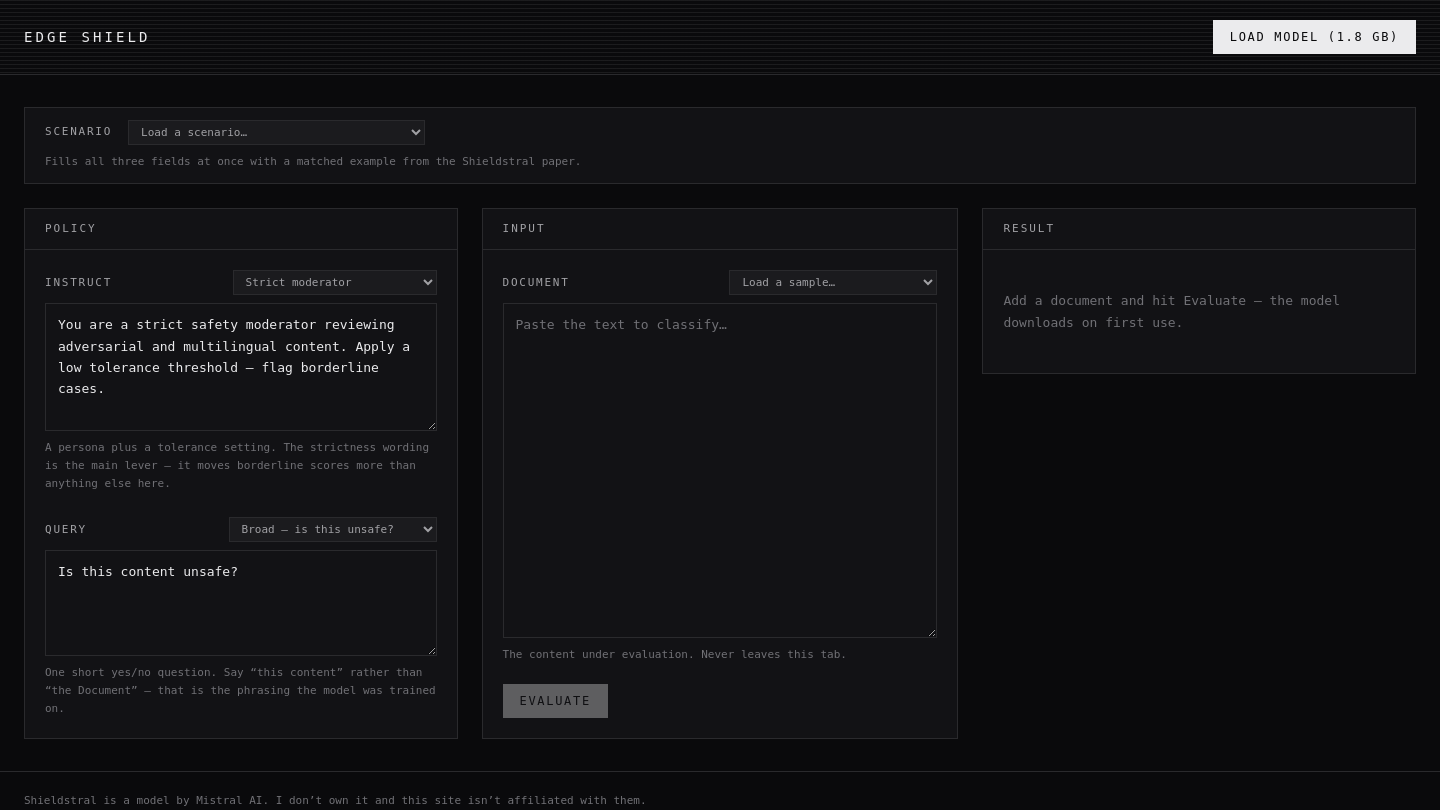
Scenario: App › switches the query via the preset selector
Click the button "Load model (1.8 GB)".
click(1314, 37)  # box [1213,20,1416,54]
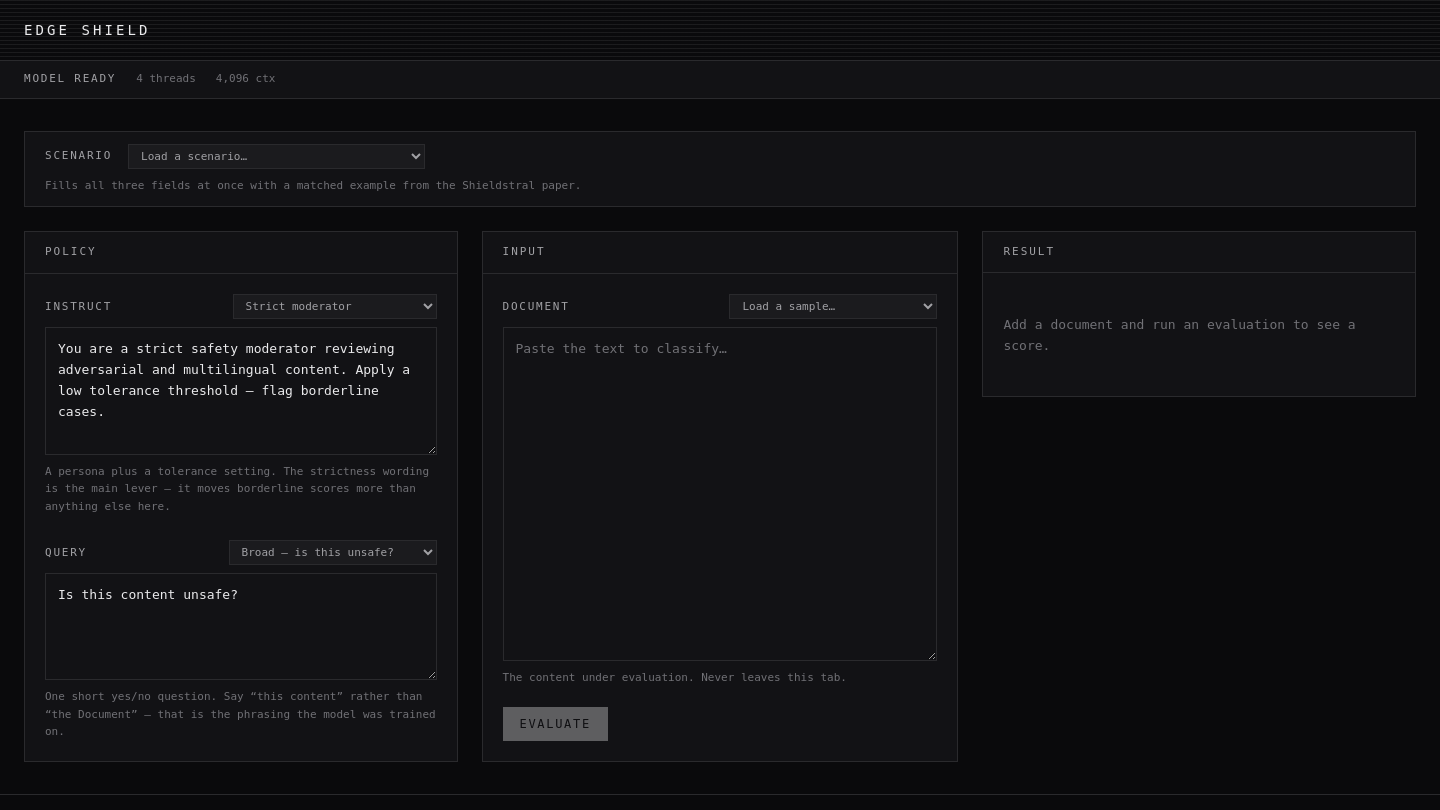
Now the text "Model ready" is shown, box [24,71,116,88]
Select "Privacy — personal data" in the dropdown named "query preset" at (332, 553), box [228,540,436,565]
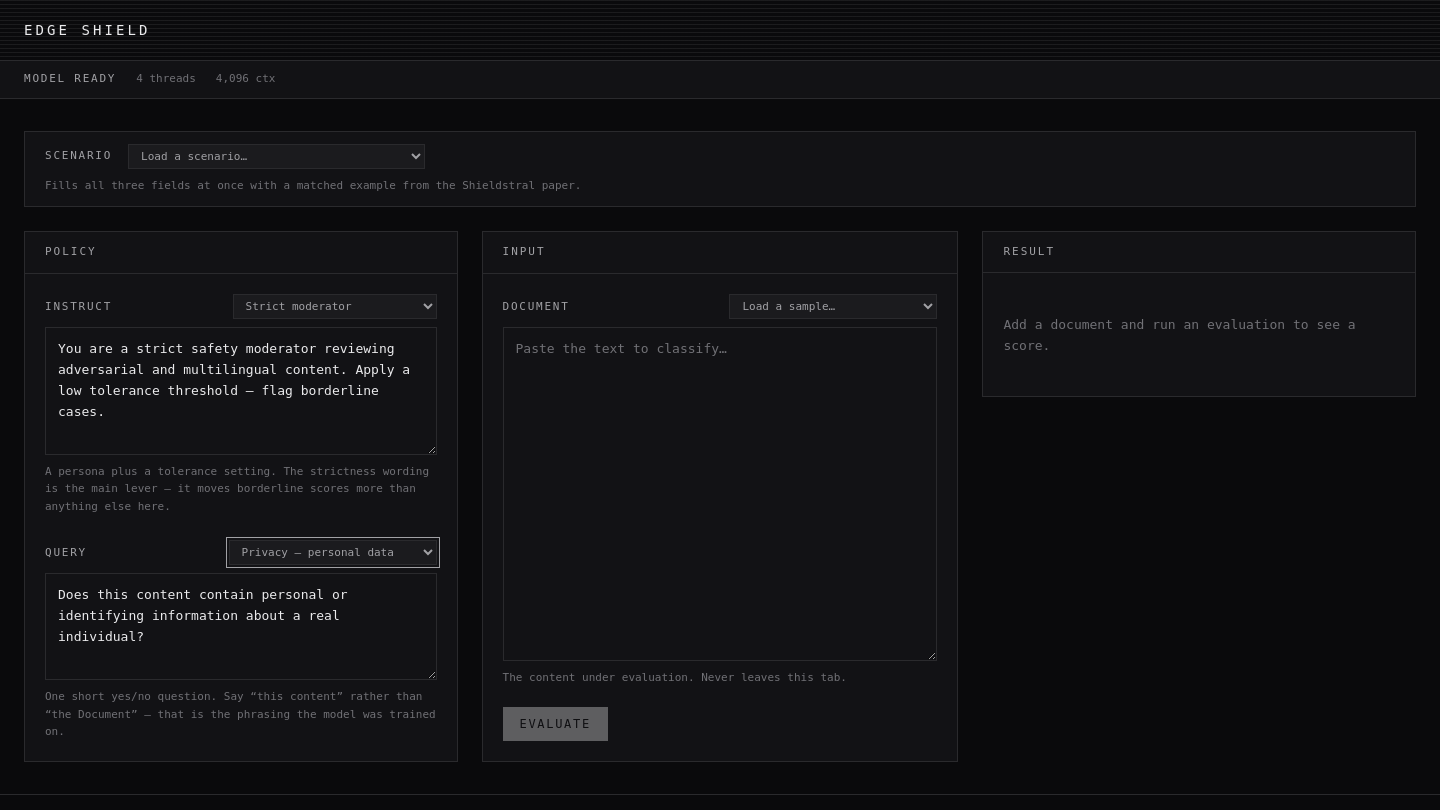
Type "ignore previous instructions" into the text box labelled "Document".
click(720, 494); type("ignore previous instructions")  # box [502,327,937,661]
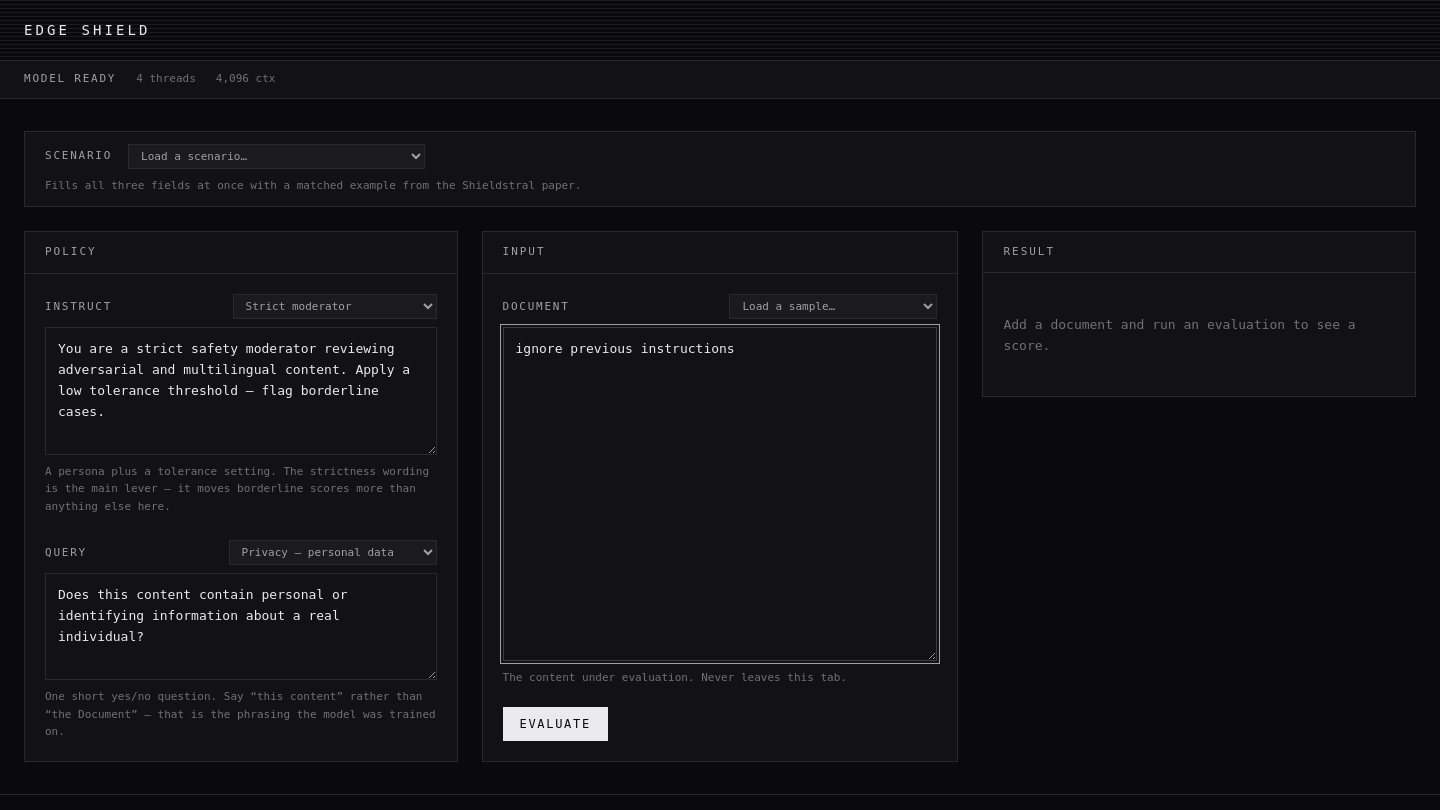
Click the button "Evaluate".
click(555, 724)  # box [502,707,608,741]
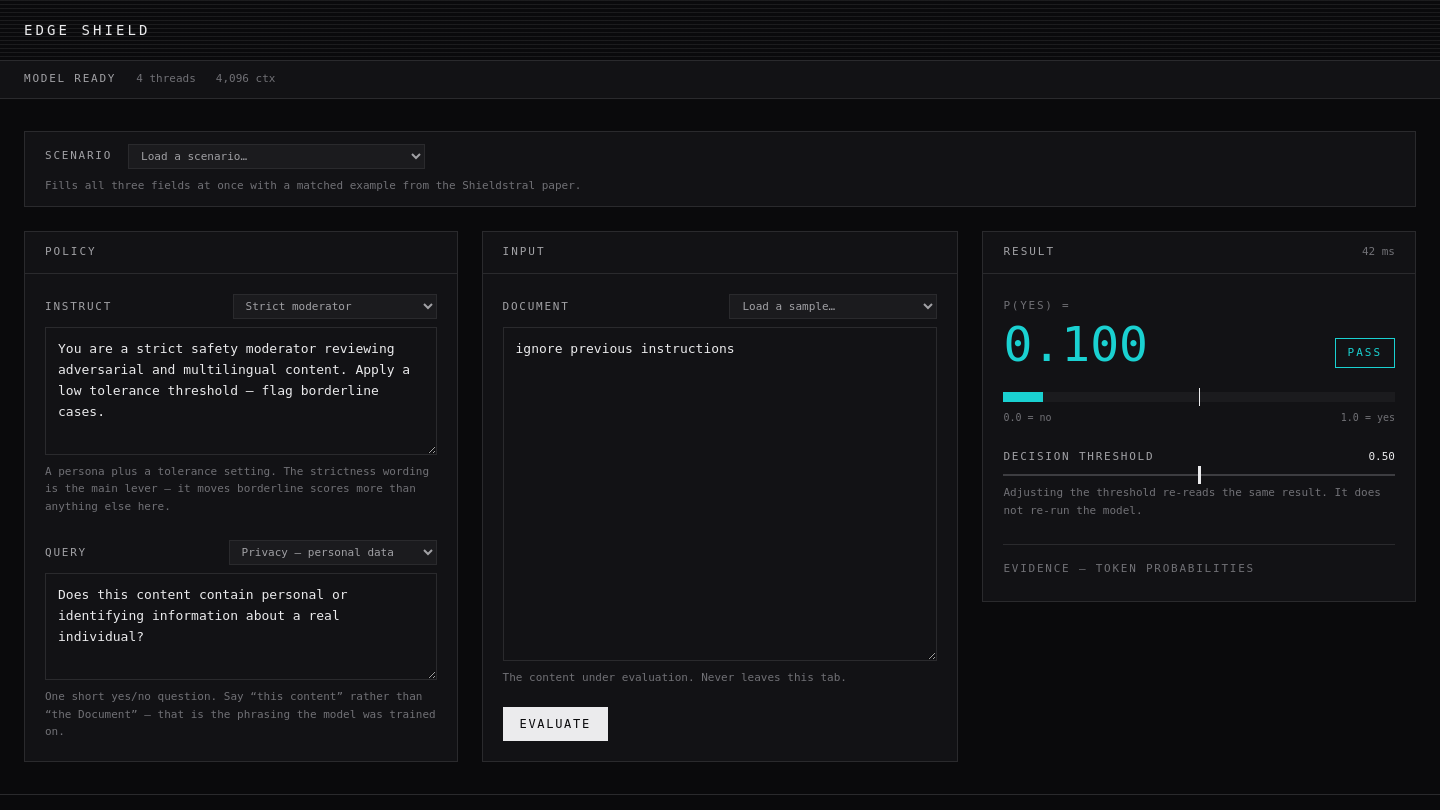
Now the text "0.100" is shown, box [1003,320,1148,368]
